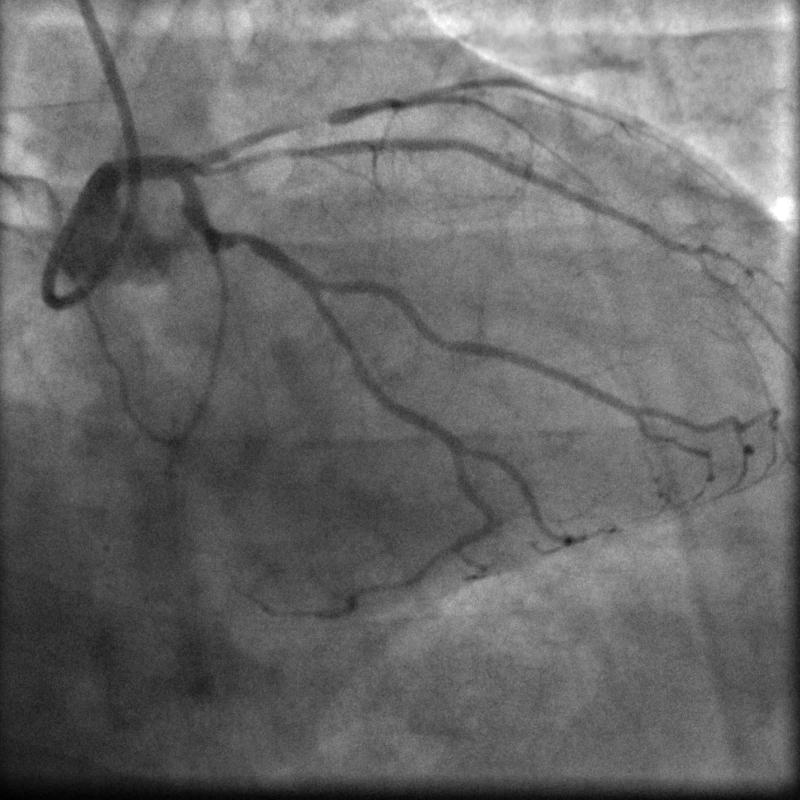Stenosis: (225, 229, 257, 254)
